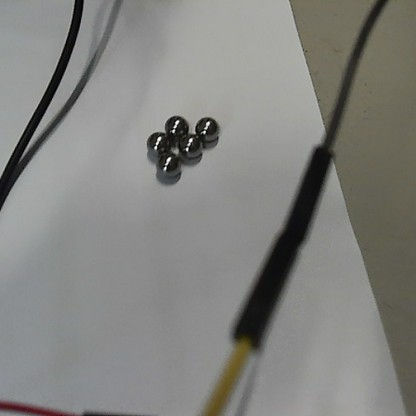ironball: (150, 147, 184, 180), (190, 111, 221, 143), (161, 111, 187, 139), (144, 129, 170, 155), (180, 136, 206, 161)
